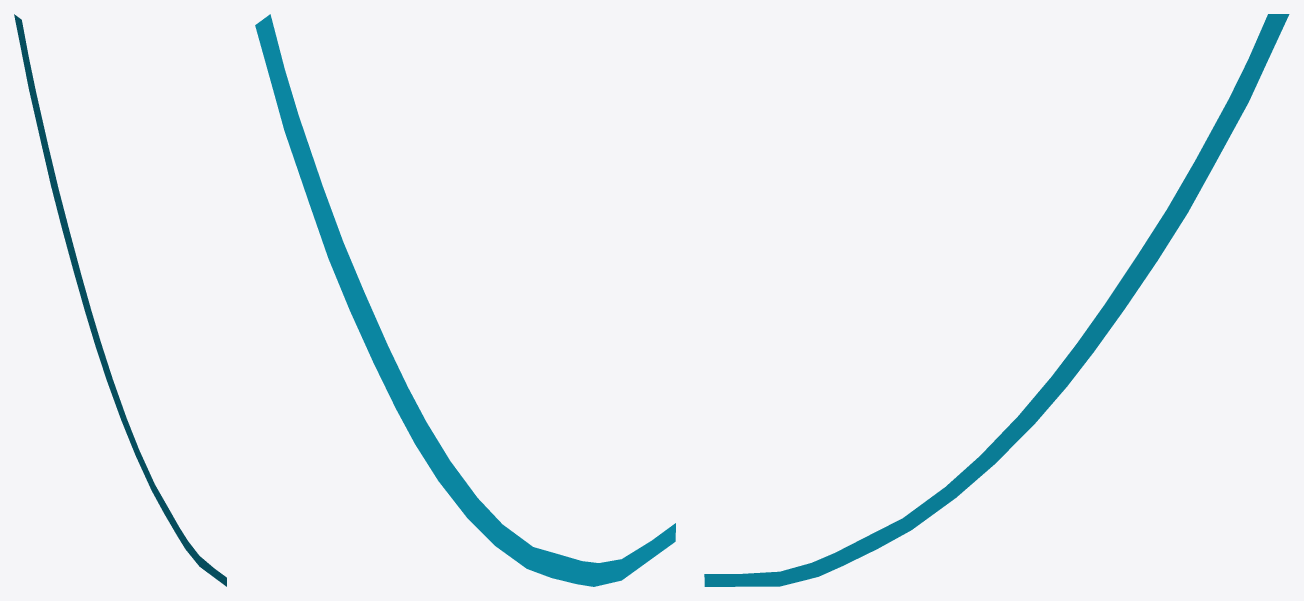
Rendered from linea.fbx.
The picture shows the model from 3 angles, left to right: view 1: azimuth 30°, elevation 25°; view 2: azimuth 150°, elevation 25°; view 3: azimuth 270°, elevation 25°; orthographic projection. The views are drawn at different scales.
Parts seen in each view (by area): view 1: linea_normal2; view 2: linea_normal2; view 3: linea_normal2.
Boxes of the visible parts, x1,y1,x2,y2 form: linea_normal2: [14, 14, 226, 586]; linea_normal2: [255, 14, 675, 586]; linea_normal2: [704, 14, 1289, 586].
Bounding box in the file's own units: 0 × 20.14 × 18.64.
